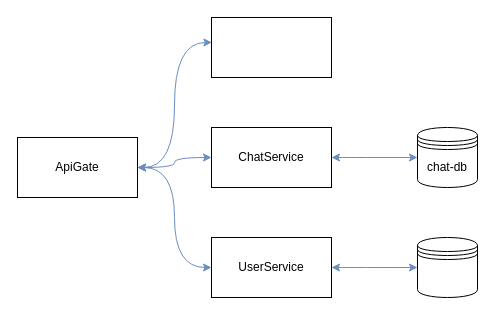
Image size: 495x315. Some labels were removed from this diagram. The box of each missing label's shape, as (x1, y1, x2, y2) in pixels:
AuthService: (210, 16, 332, 78)
user-db: (416, 236, 478, 298)
